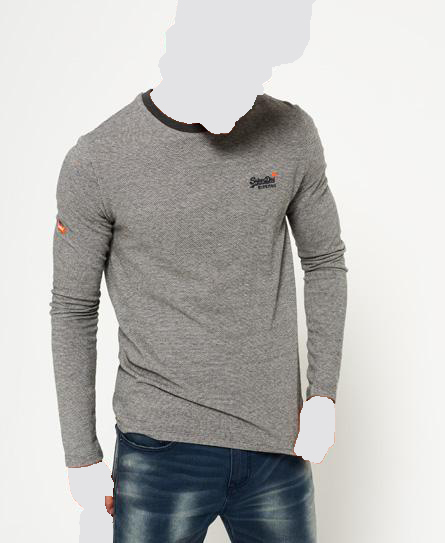teeshirt: (41, 90, 350, 463)
